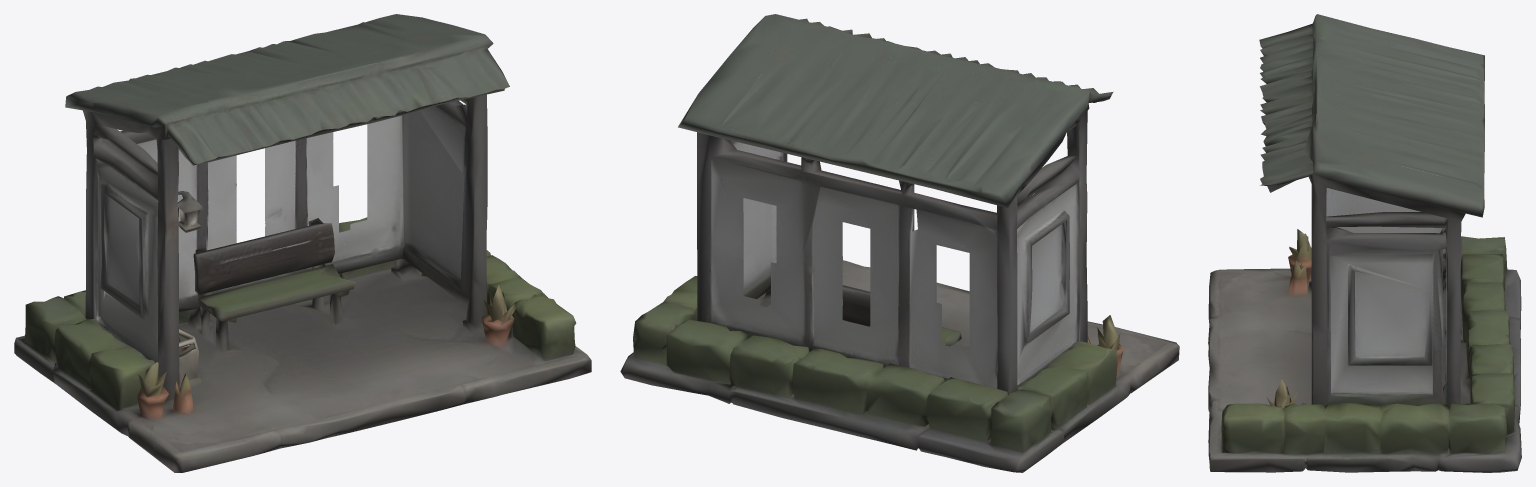
Rendered from bus_stop_shelter.glb.
3 views of the same model, side by side, from view 1: azimuth 30°, elevation 25°; view 2: azimuth 150°, elevation 25°; view 3: azimuth 270°, elevation 25° (orthographic). The views are drawn at different scales.
Parts seen in each view (by area): view 1: tripo_node_3cf41d81-0970-4985-afb7-51f83e4bd299; view 2: tripo_node_3cf41d81-0970-4985-afb7-51f83e4bd299; view 3: tripo_node_3cf41d81-0970-4985-afb7-51f83e4bd299.
Boxes of the visible parts, left/top/right/bottom form: tripo_node_3cf41d81-0970-4985-afb7-51f83e4bd299: left=14, top=14, right=591, bottom=472; tripo_node_3cf41d81-0970-4985-afb7-51f83e4bd299: left=620, top=14, right=1179, bottom=472; tripo_node_3cf41d81-0970-4985-afb7-51f83e4bd299: left=1208, top=14, right=1521, bottom=472.
Size of the model in its own units: 1 by 0.7071 by 0.6978.
1 material, 1 textured.
